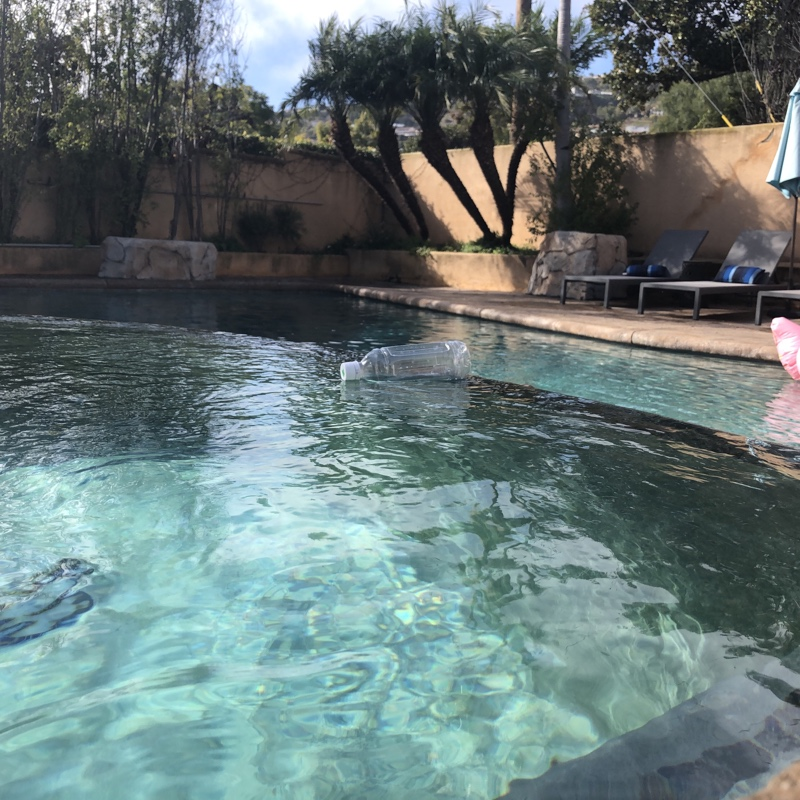Plastic Bottle: (337, 338, 477, 392)
